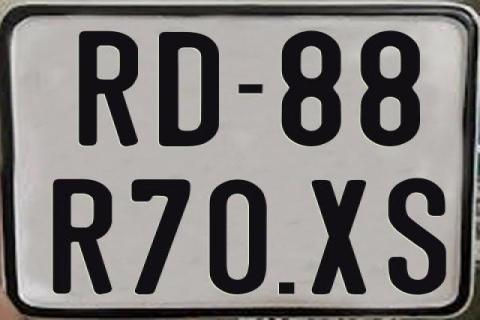0: (359, 28, 424, 144), (208, 178, 270, 298), (129, 180, 190, 300), (279, 30, 341, 148)
D: (158, 31, 220, 148)
R: (79, 30, 141, 146), (53, 177, 114, 293)
S: (388, 178, 450, 294)
X: (309, 178, 370, 294)
